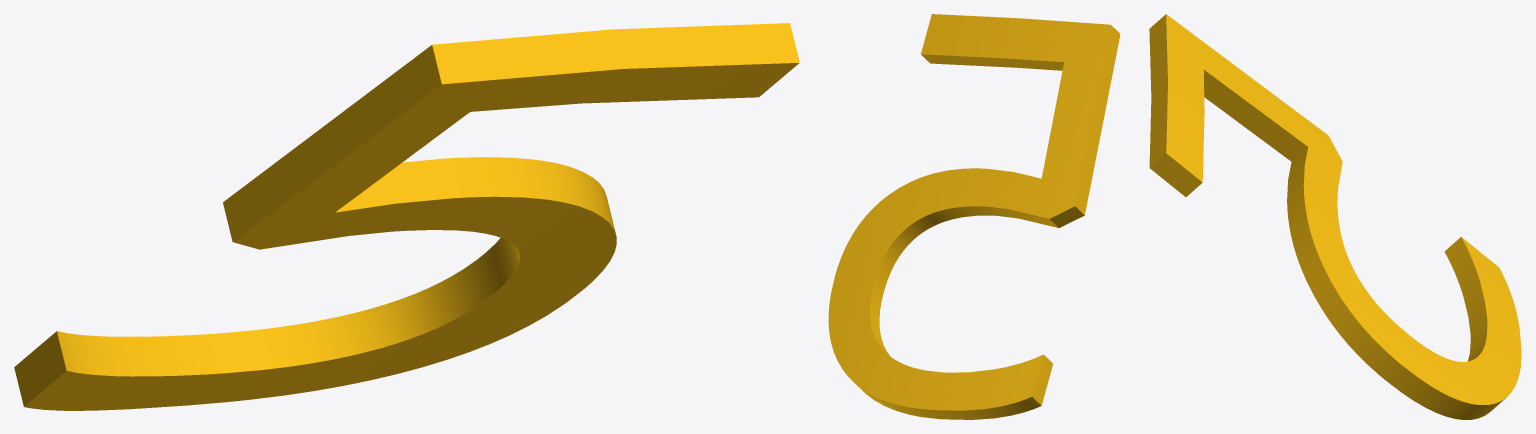
Rendered from Number_5.gltf.
3 views of the same model, side by side, from view 1: azimuth 30°, elevation 25°; view 2: azimuth 150°, elevation 25°; view 3: azimuth 270°, elevation 25° (orthographic). The views are drawn at different scales.
Visible parts, largest first — view 1: Sub_3_Cell_3_3_Number_5; view 2: Sub_3_Cell_3_3_Number_5; view 3: Sub_3_Cell_3_3_Number_5.
Boxes of the visible parts, <box> form: Sub_3_Cell_3_3_Number_5: <box>14,23,799,410</box>; Sub_3_Cell_3_3_Number_5: <box>828,14,1120,419</box>; Sub_3_Cell_3_3_Number_5: <box>1149,14,1521,419</box>.
Size of the model in its own units: 0.017 by 0.0196 by 0.0192.
